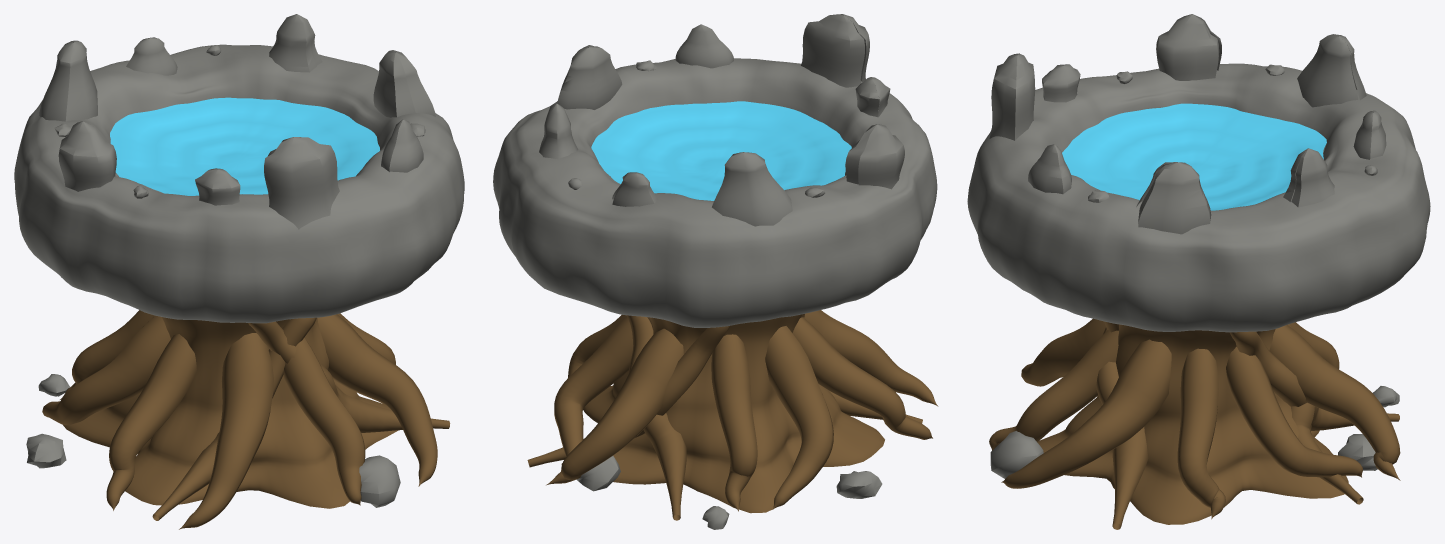
The model's file is infusion_table.obj.
3 renders of one model, left to right at view 1: azimuth 30°, elevation 25°; view 2: azimuth 150°, elevation 25°; view 3: azimuth 270°, elevation 25°, orthographic. The views are drawn at different scales.
Visible parts, largest first — view 1: infusion_table; view 2: infusion_table; view 3: infusion_table.
Boxes of the visible parts, box(x1,y1,x2,y2) form: infusion_table: box(14, 14, 464, 529); infusion_table: box(493, 14, 938, 529); infusion_table: box(967, 14, 1430, 529).
Size of the model in its own units: 1.26 by 1.18 by 1.3.
